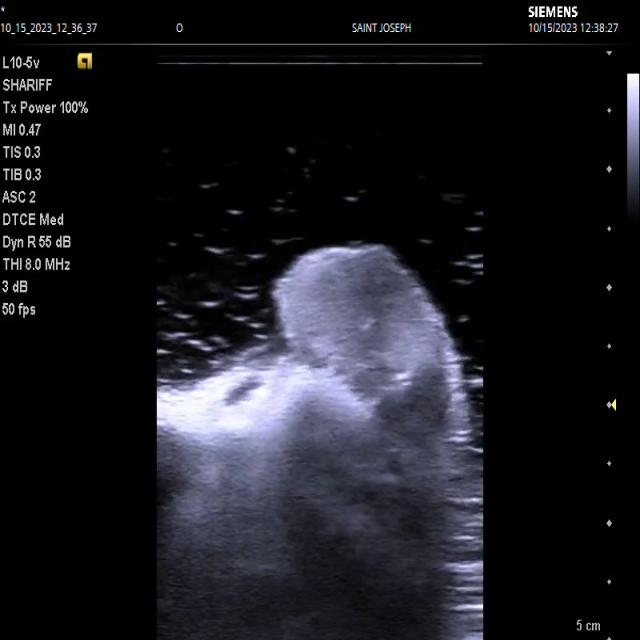tissue: (157, 239, 481, 640)
